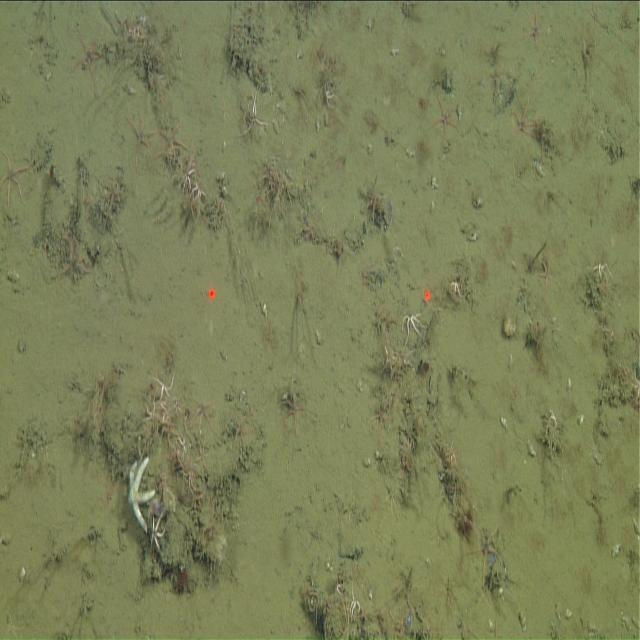Brittle Star: (148, 506, 168, 554)
Not Brittle Star: (126, 452, 157, 535)
